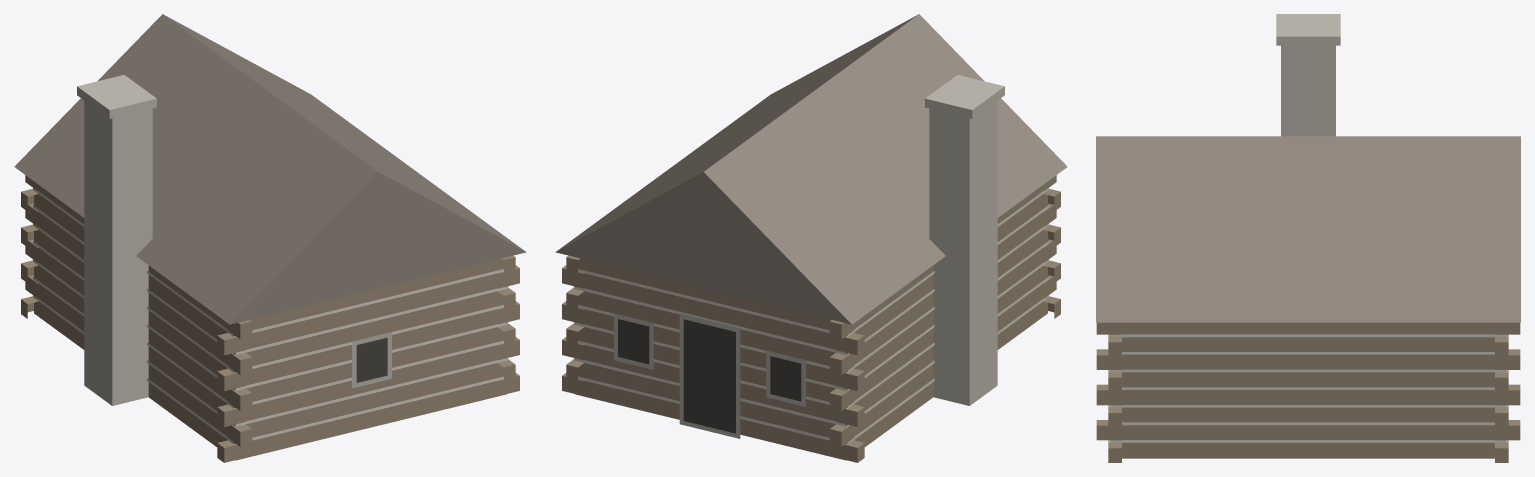
The model's file is recon_1835_north_d1_013__inferred_1835.glb.
3 renders of one model, left to right at view 1: azimuth 30°, elevation 25°; view 2: azimuth 150°, elevation 25°; view 3: azimuth 270°, elevation 25°, orthographic.
Parts seen in each view (by area): view 1: recon_1835_north_d1_013__inferred_1835; view 2: recon_1835_north_d1_013__inferred_1835; view 3: recon_1835_north_d1_013__inferred_1835.
Part boxes in pixels (box(x1,y1,x2,y2)): recon_1835_north_d1_013__inferred_1835: box(14, 14, 526, 462); recon_1835_north_d1_013__inferred_1835: box(555, 14, 1067, 462); recon_1835_north_d1_013__inferred_1835: box(1096, 14, 1520, 462).
Size of the model in its own units: 6.47 by 5.74 by 7.42.
